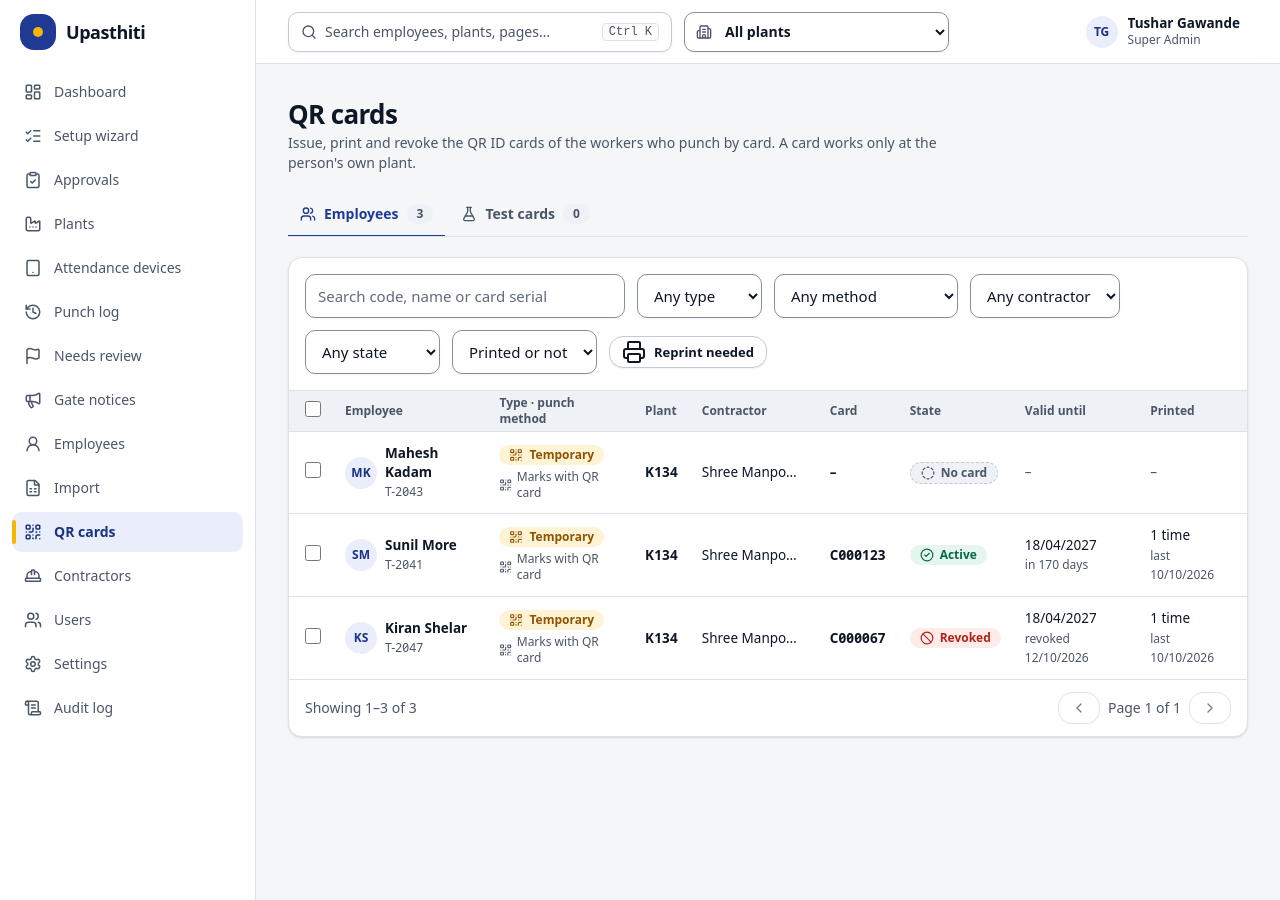
it: selecting people › selects and clears everyone on the page
Click the checkbox named "Select everyone on this page" at (313, 409), box [305,401,321,417]
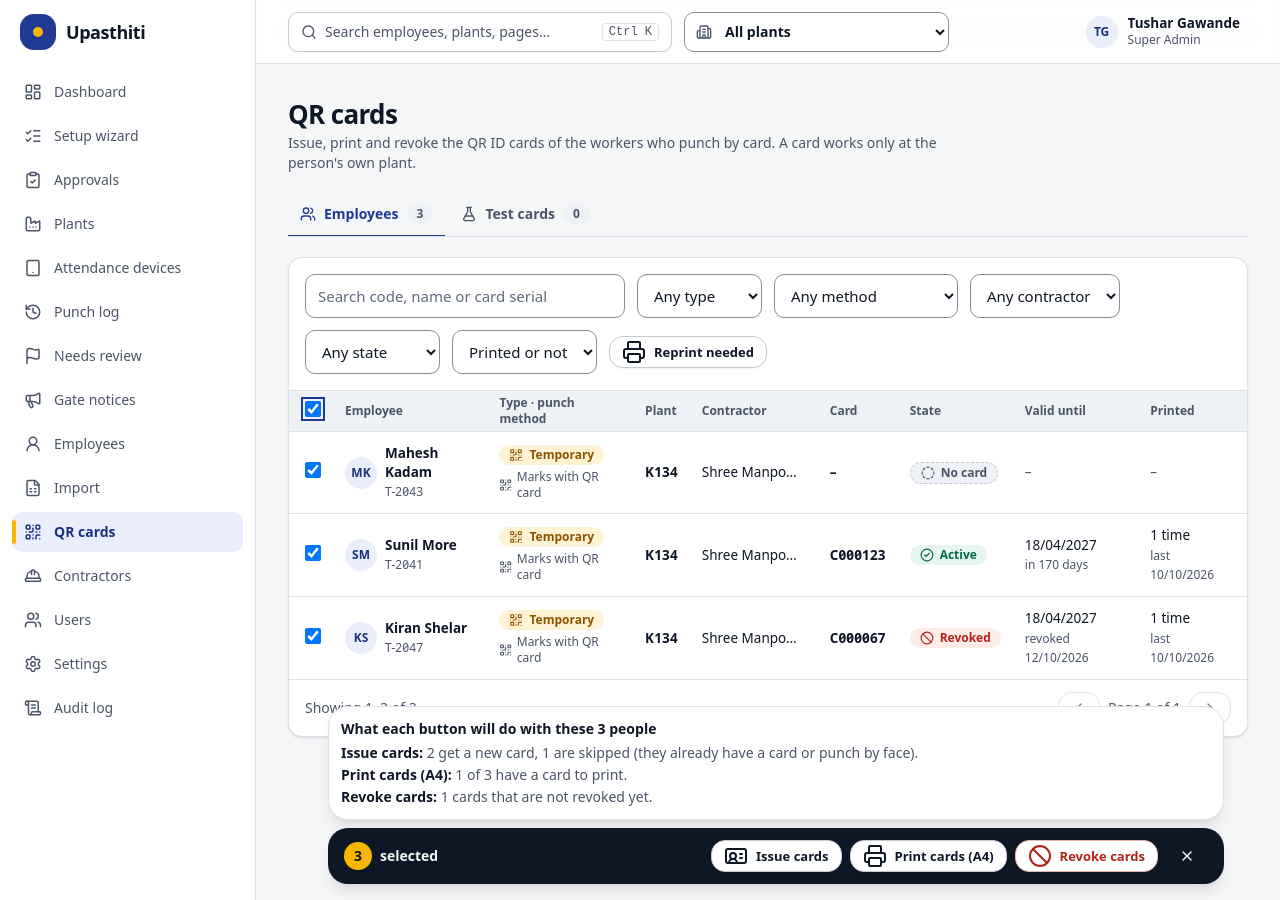
Now the text "What each button will do with these 3 people" is shown, box [341,719,656,738]
Click the button named "Clear the selection" at (1187, 856), box [1166,840,1208,872]
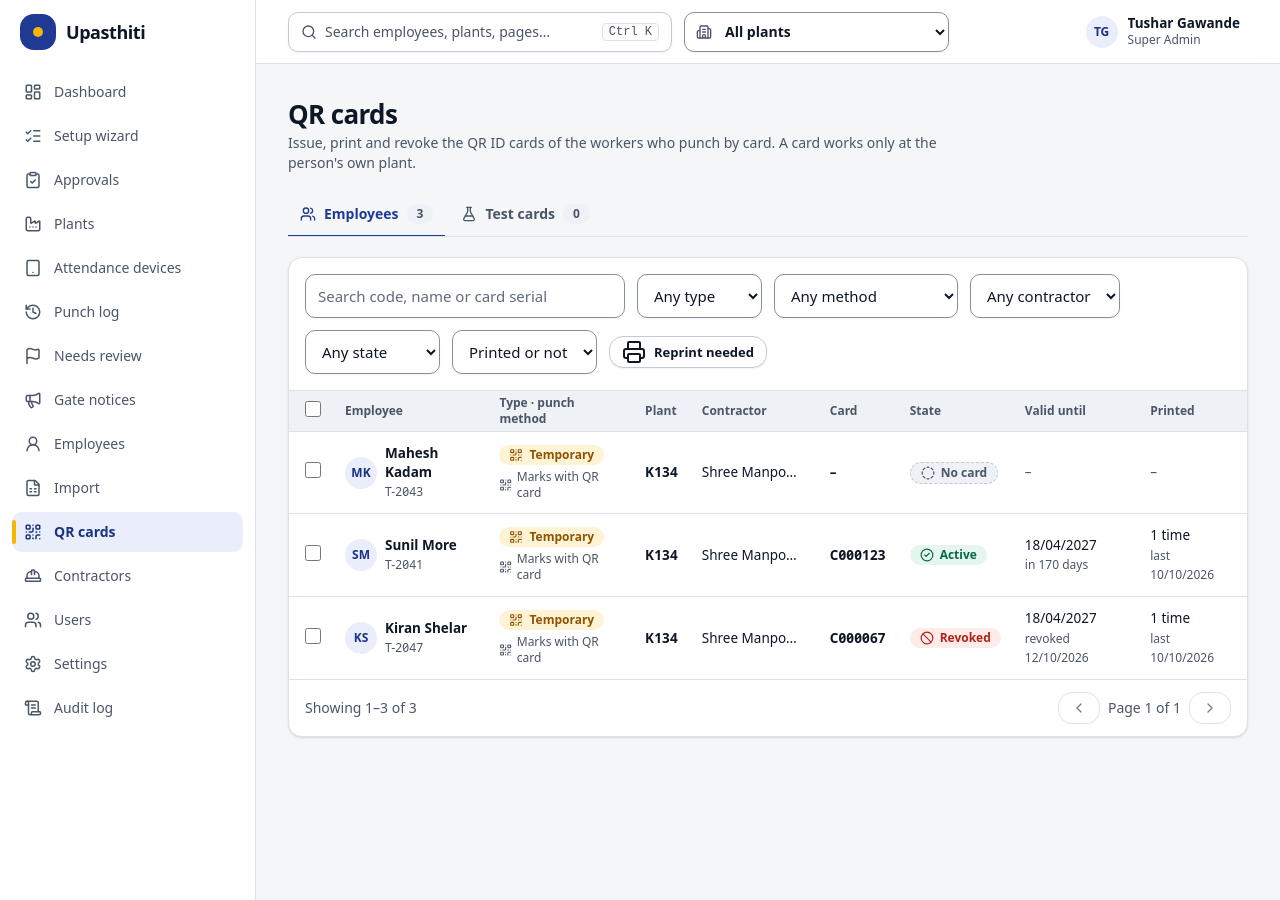
Now the text "What each button will do" is gone
